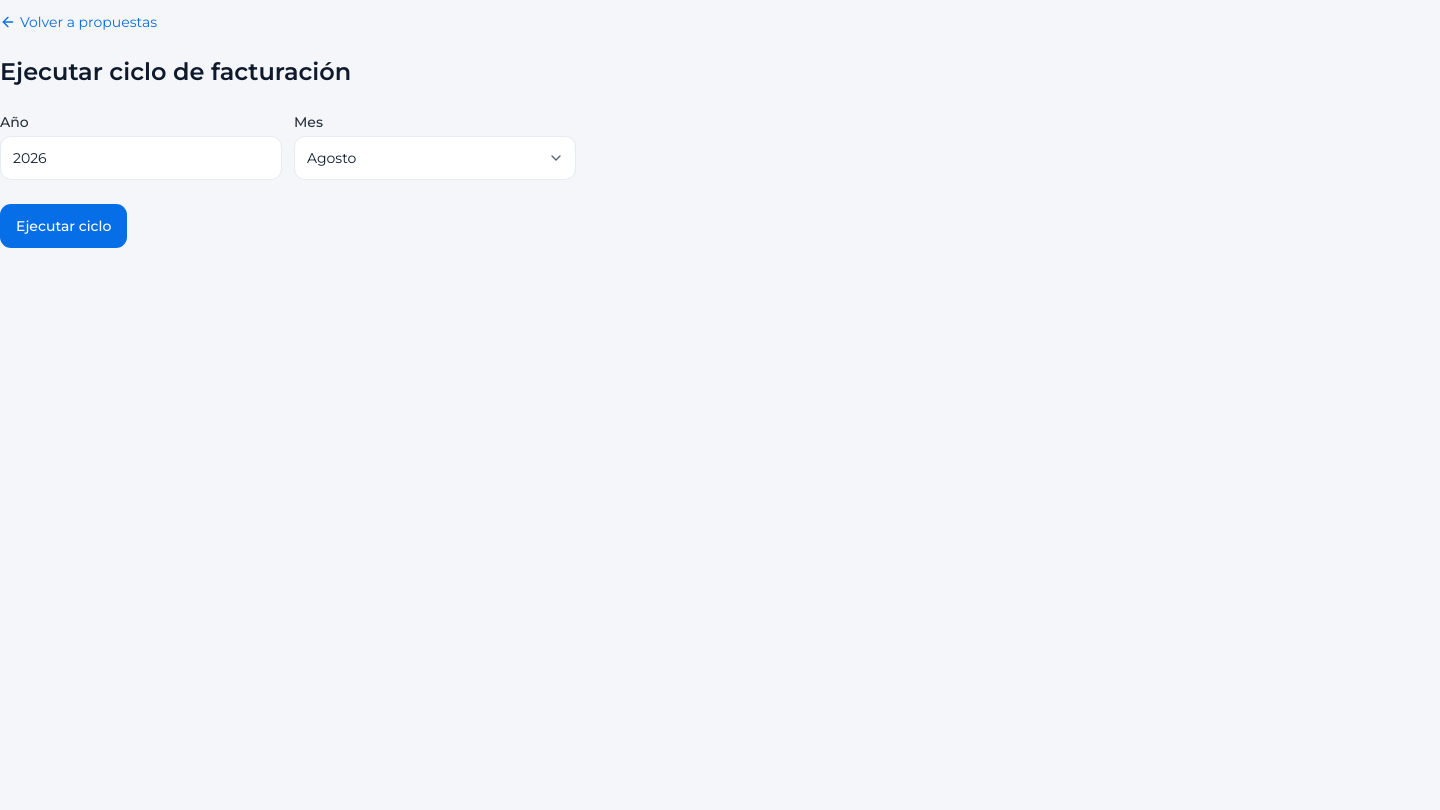
Scenario: EjecutarCiclo › muestra las PENDIENTE_UF como advertencia, no como éxito silencioso
The width and height of the screenshot is (1440, 810).
Click the button "Ejecutar ciclo" at (64, 226), box [0,204,127,248]
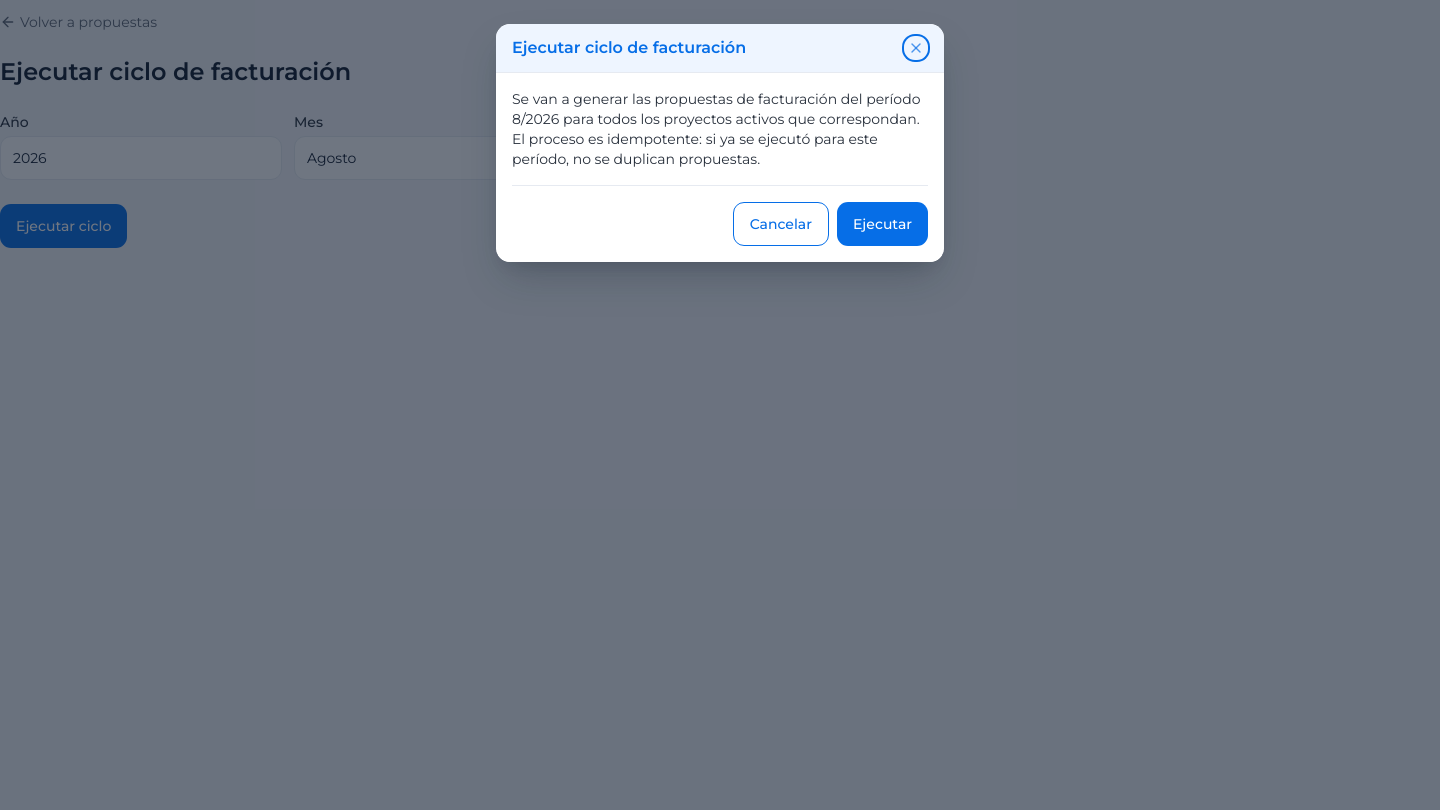
Click the button "Ejecutar" at (882, 224), box [837,202,928,246]
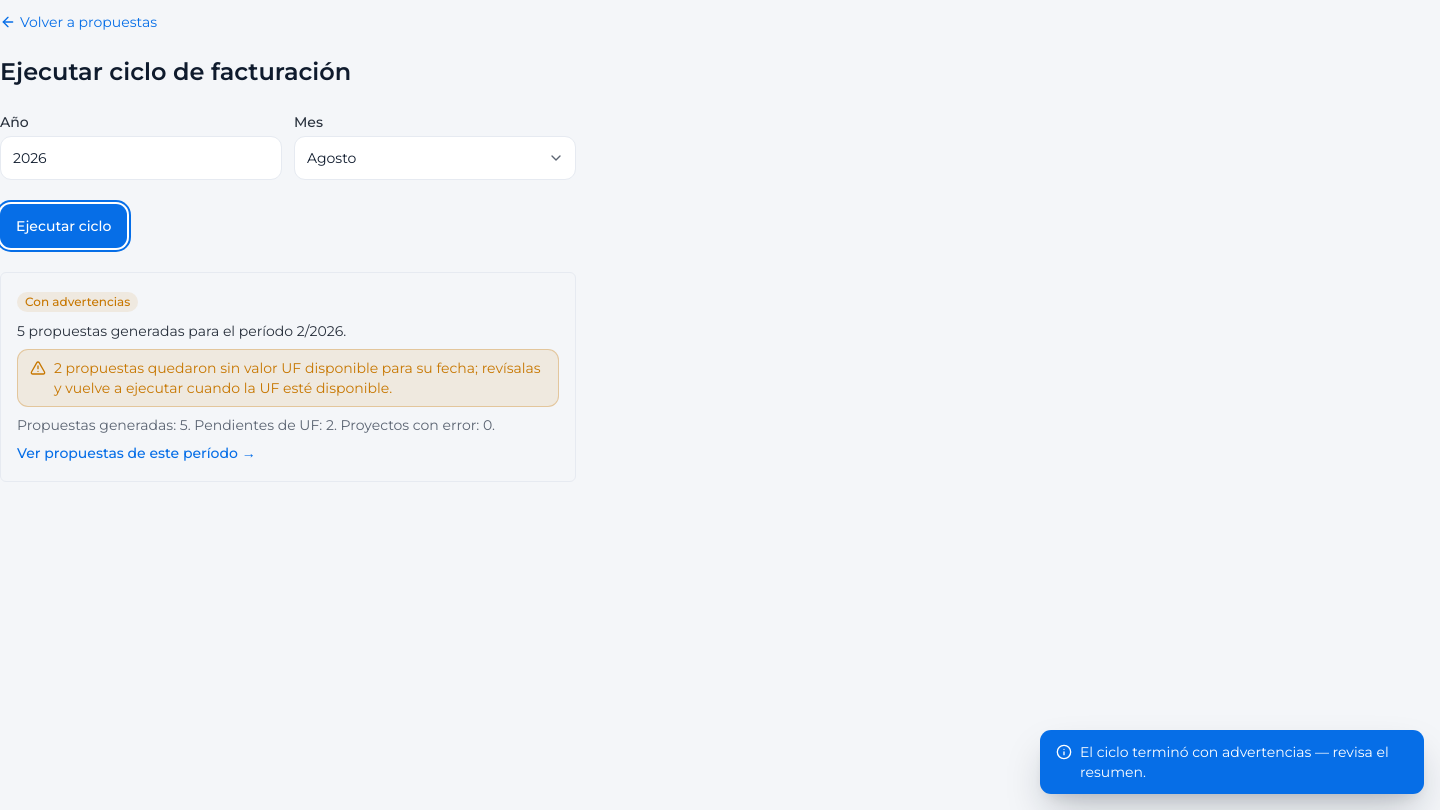
Result: the text "Con advertencias" is shown at [17,292,138,312]
Result: the text "2 propuestas quedaron sin valor UF disponible para su fecha" is shown at [54,358,546,398]
